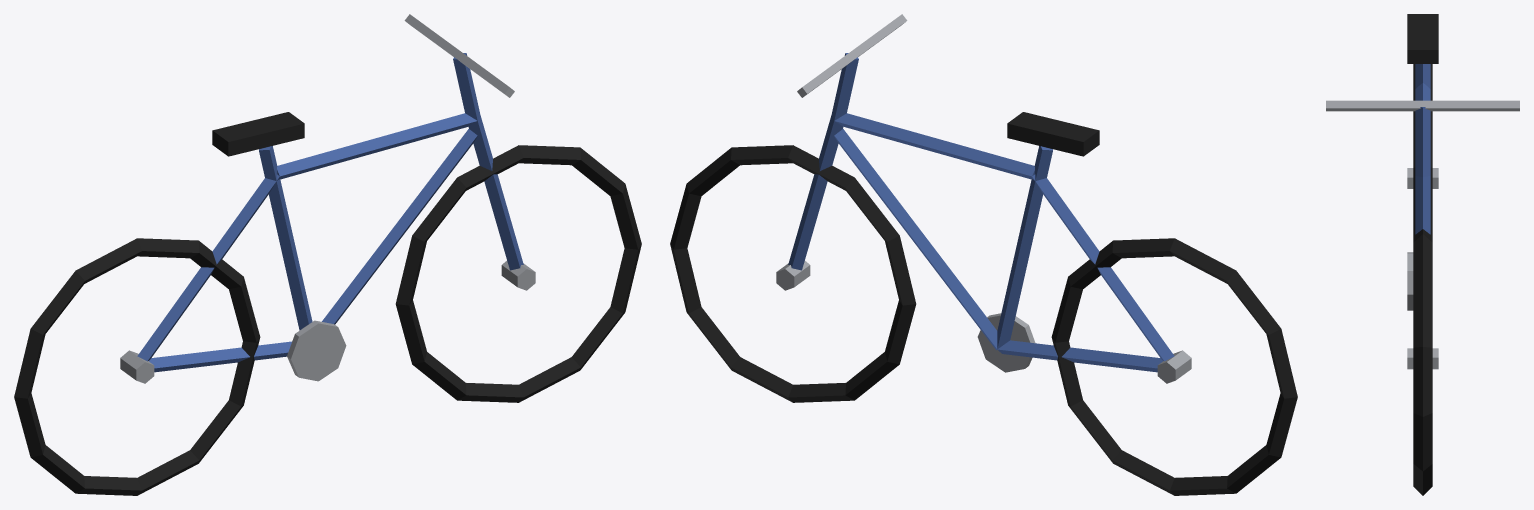
File: objet_velo.glb
The picture shows the model from 3 angles, left to right: view 1: azimuth 30°, elevation 25°; view 2: azimuth 150°, elevation 25°; view 3: azimuth 270°, elevation 25°; orthographic projection. The views are drawn at different scales.
Visible parts, largest first — view 1: objet_velo; view 2: objet_velo; view 3: objet_velo.
Boxes of the visible parts, x1,y1,x2,y2 form: objet_velo: [14, 14, 641, 495]; objet_velo: [670, 14, 1297, 495]; objet_velo: [1326, 14, 1519, 495].
Bounding box in the file's own units: 1.81 × 1.01 × 0.5.
